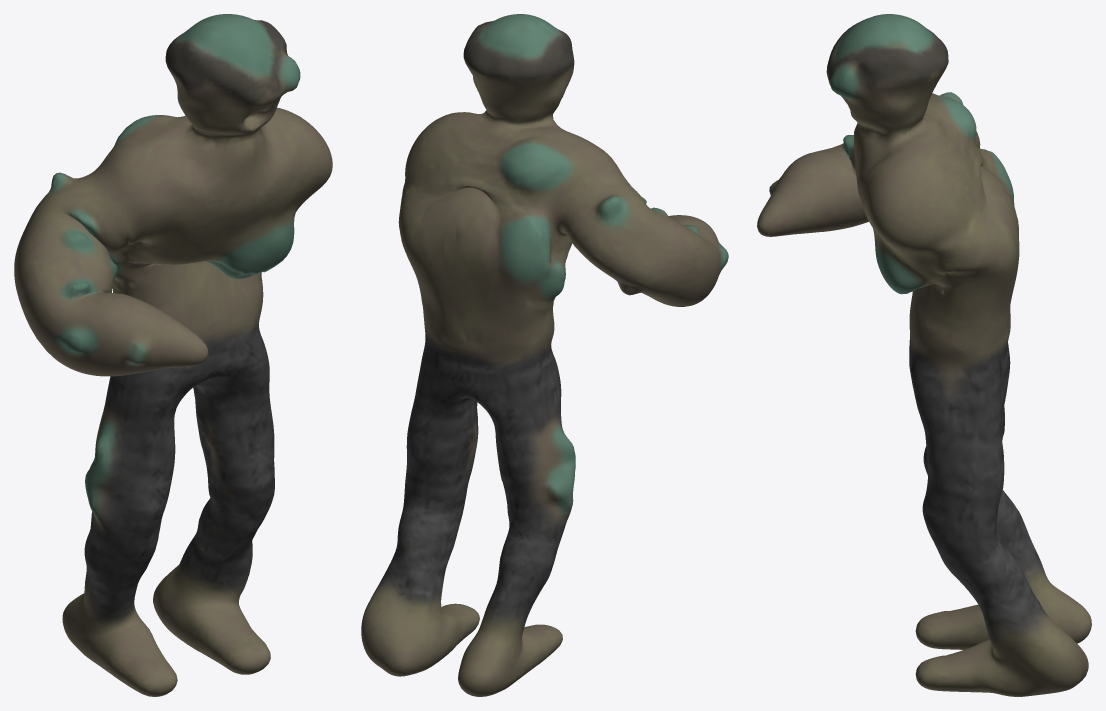
File: enemyinfest.fbx
3 views of the same model, side by side, from view 1: azimuth 30°, elevation 25°; view 2: azimuth 150°, elevation 25°; view 3: azimuth 270°, elevation 25° (orthographic). The views are drawn at different scales.
Visible parts, largest first — view 1: Volume13; view 2: Volume13; view 3: Volume13.
Part boxes in pixels (box(x1,y1,x2,y2)): Volume13: box(14, 14, 332, 696); Volume13: box(361, 14, 728, 696); Volume13: box(757, 14, 1091, 696).
Size of the model in its own units: 139 by 290 by 135.
